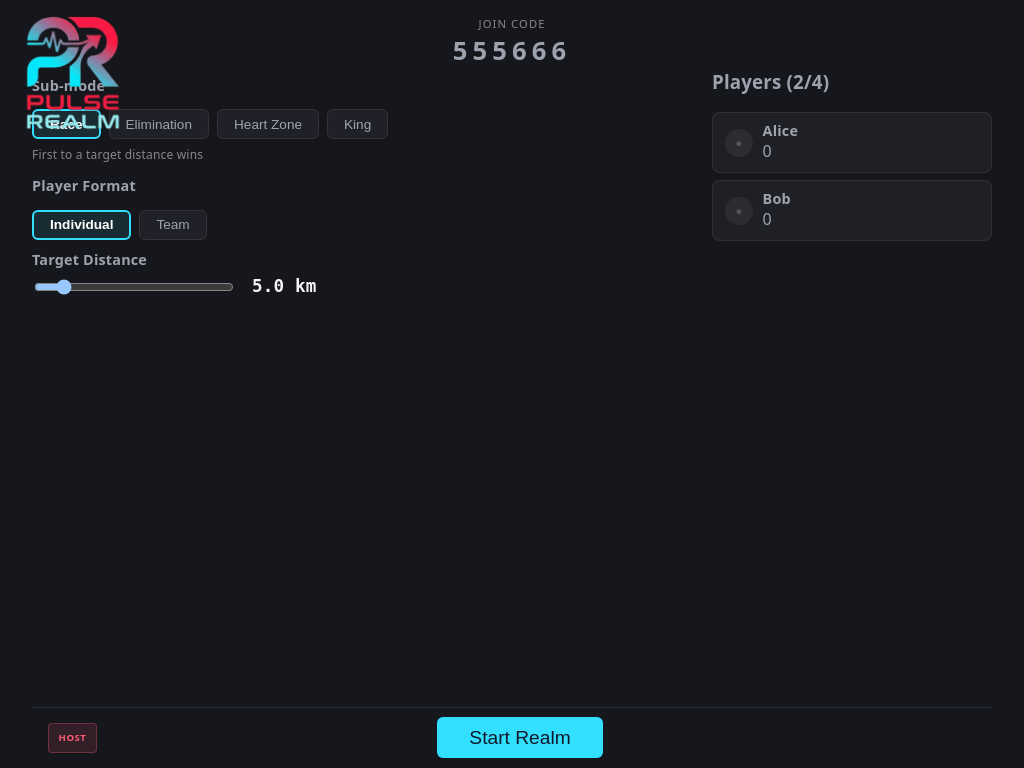
Scenario: CompetitionLobby › elimination mode › shows minimum players message for elimination with fewer than 3 players
This screenshot has width=1024, height=768.
Step 1. Click the button "Elimination" → (159, 124), box [108,109,209,139]
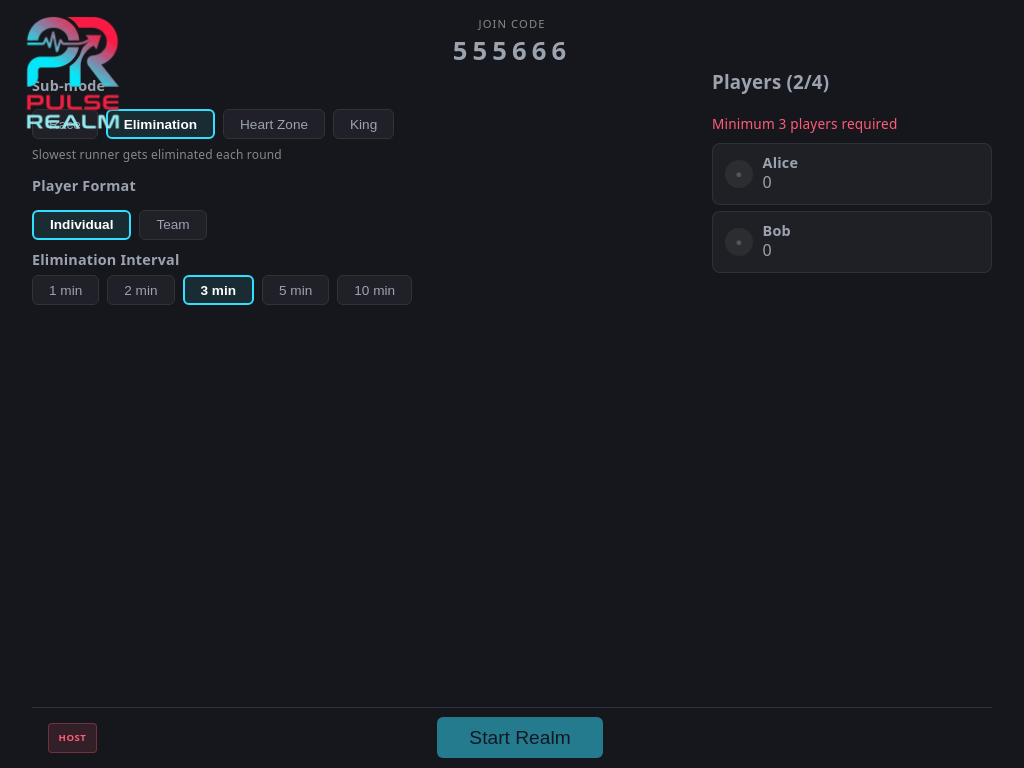
Check: the text "Minimum 3 players required" is shown, box [712,114,898,133]
